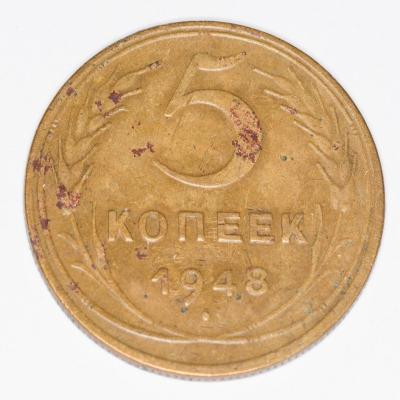numismatics: (23, 20, 386, 383)
